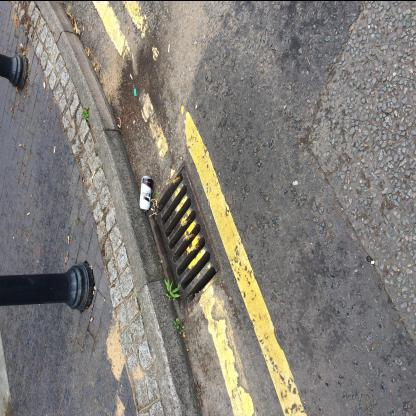metal: (140, 176, 154, 210)
